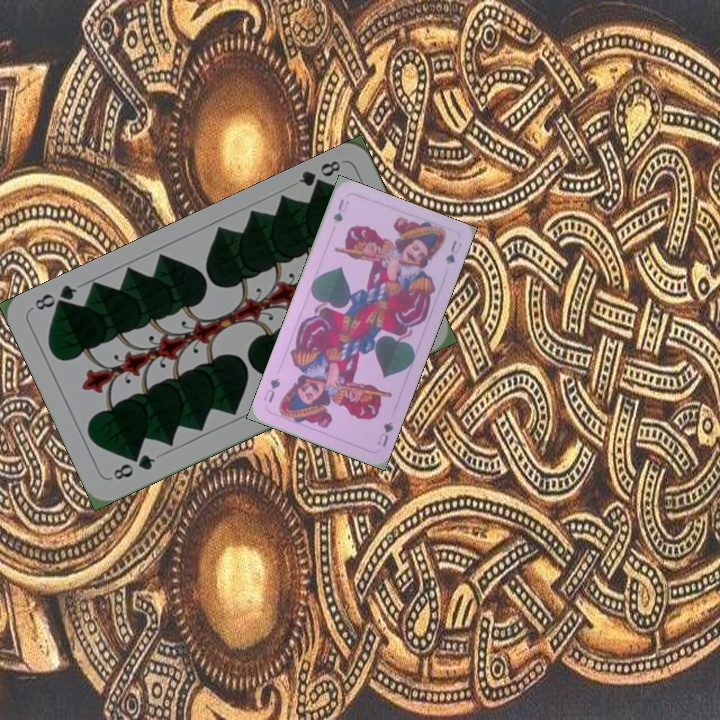G8: (294, 156, 344, 195), (109, 450, 158, 483)
GU: (373, 417, 396, 449), (329, 195, 352, 226)
